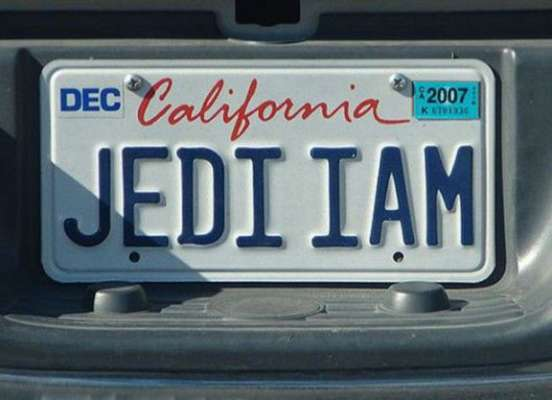number_plate: (38, 55, 501, 283)
